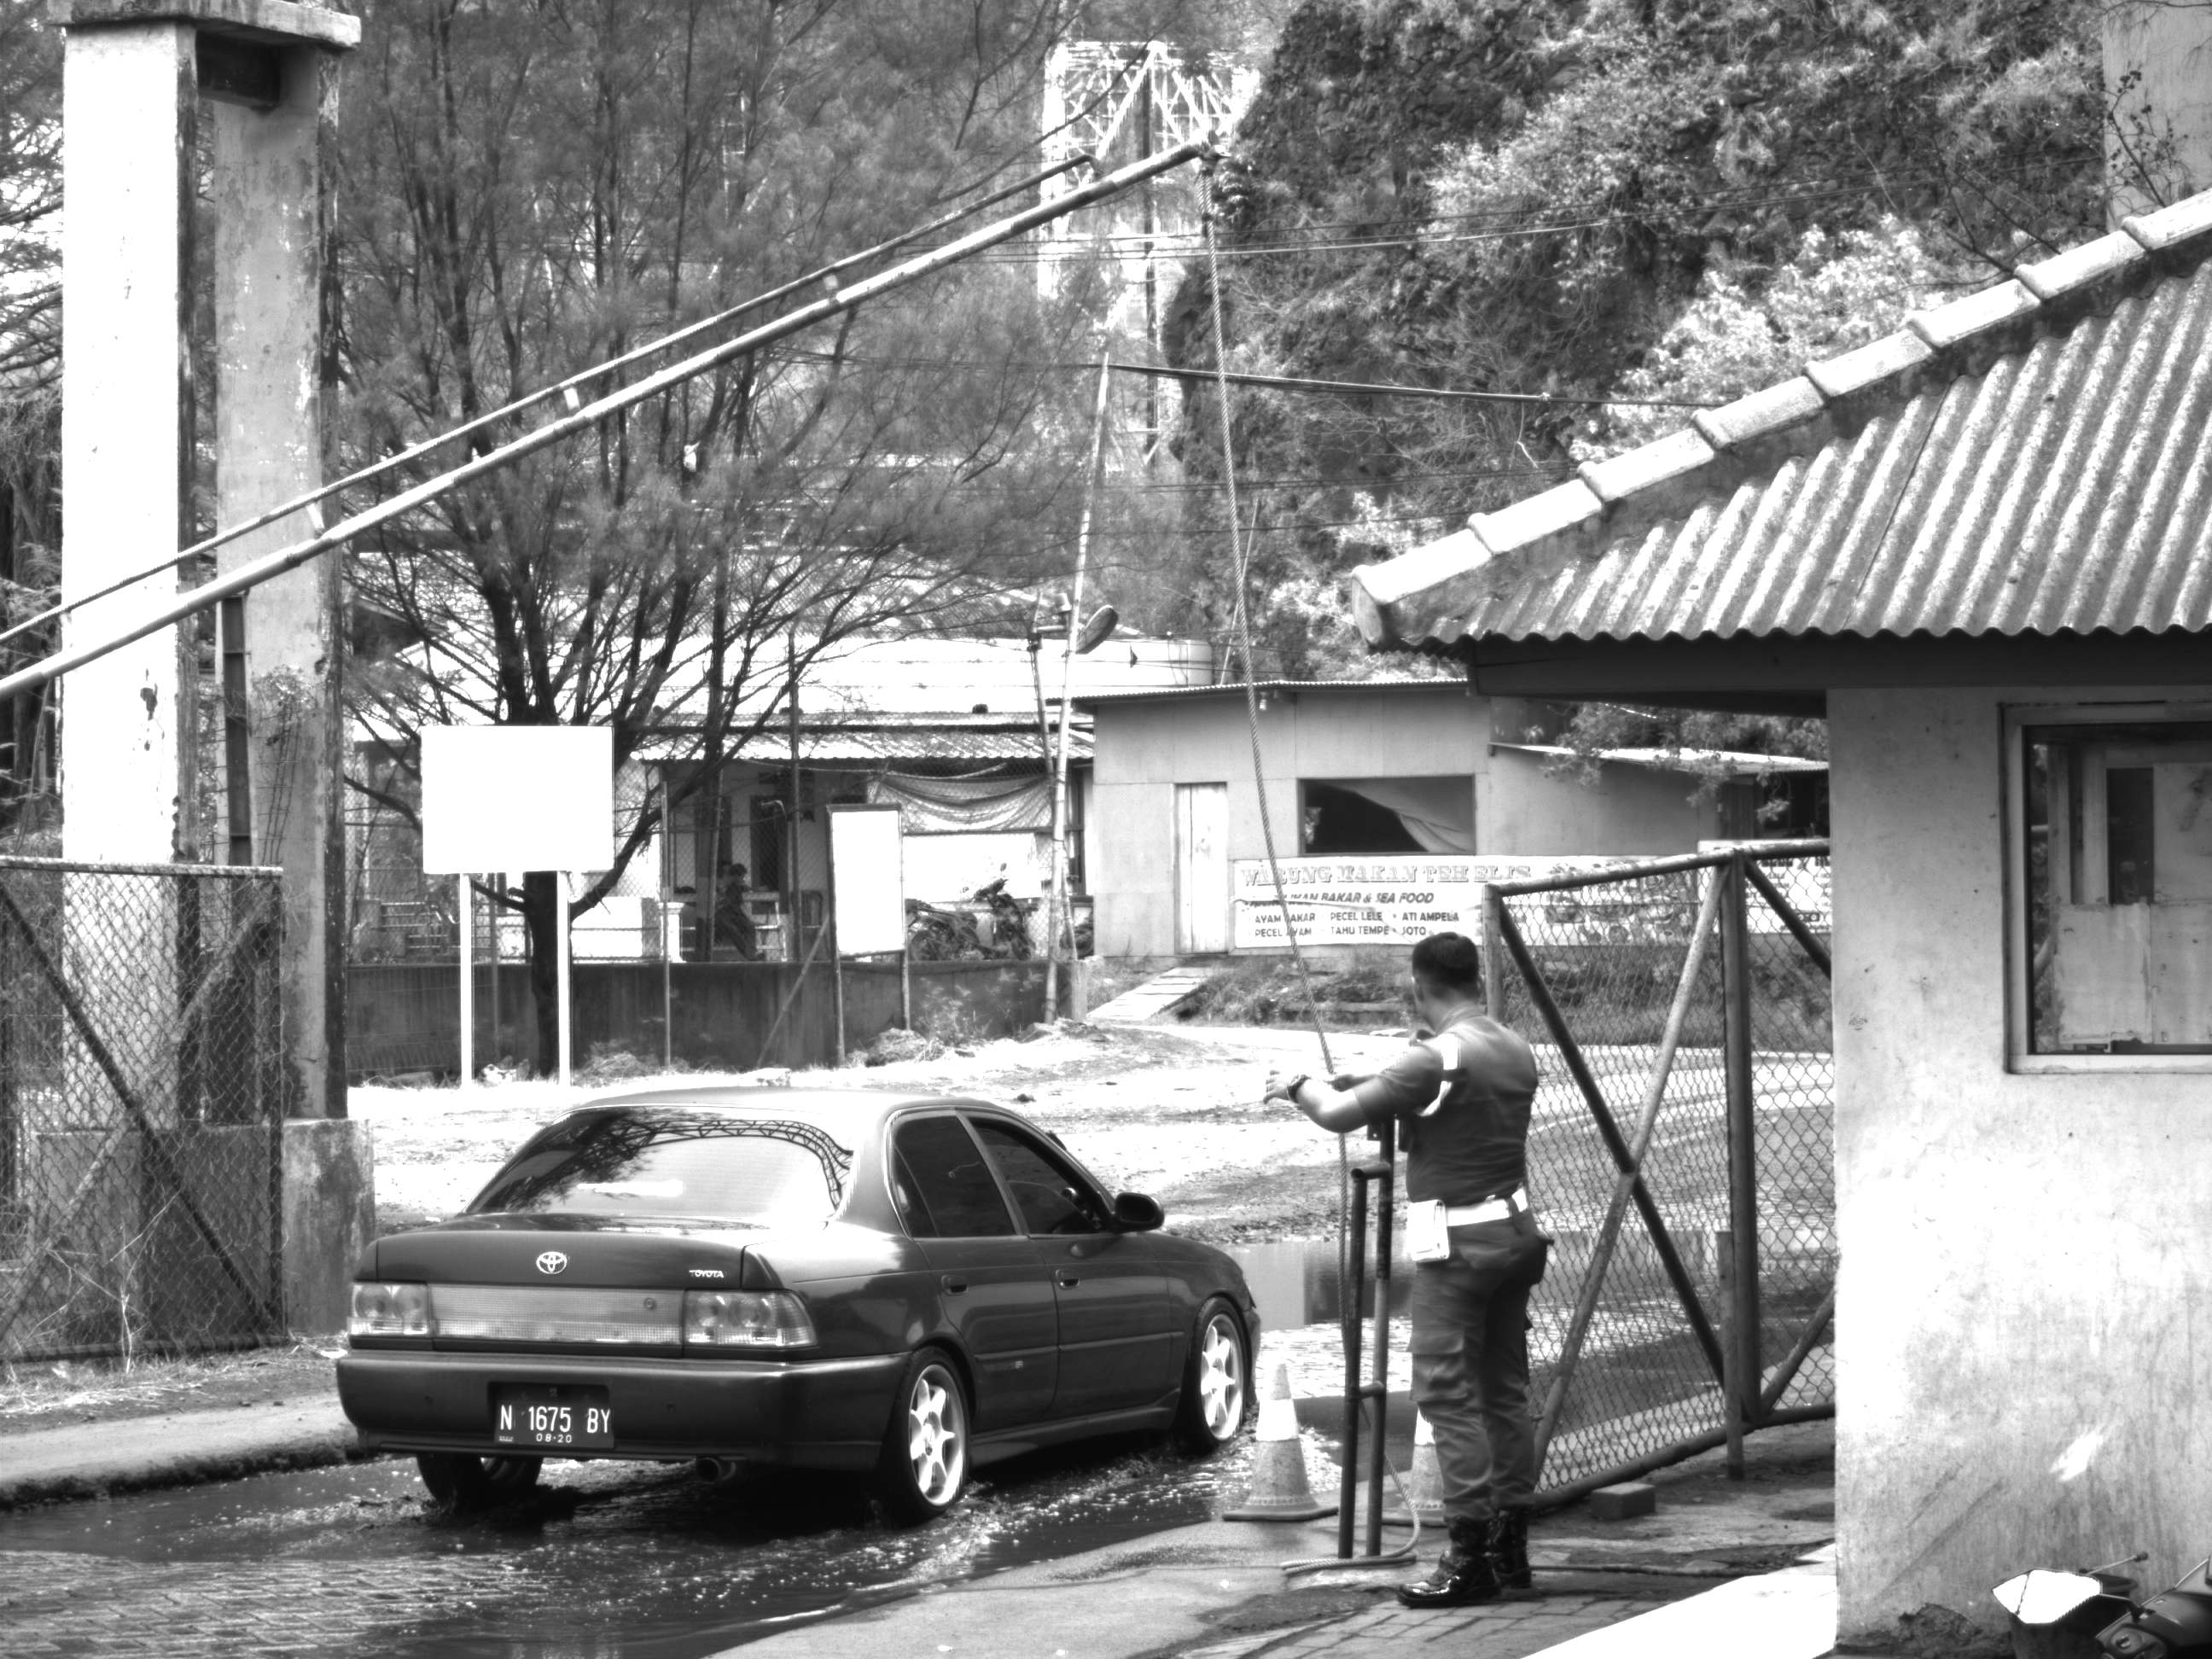day_small_rear: (333, 1090, 1003, 1518)
plate: (489, 1390, 620, 1459)
